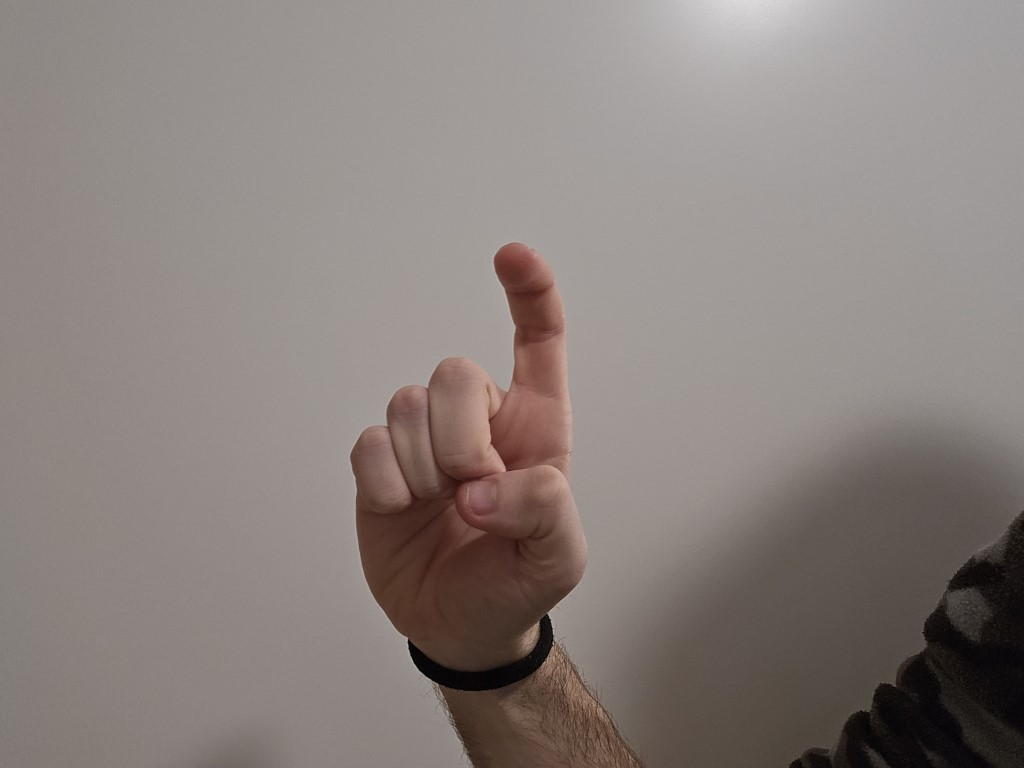x: (318, 219, 613, 646)
